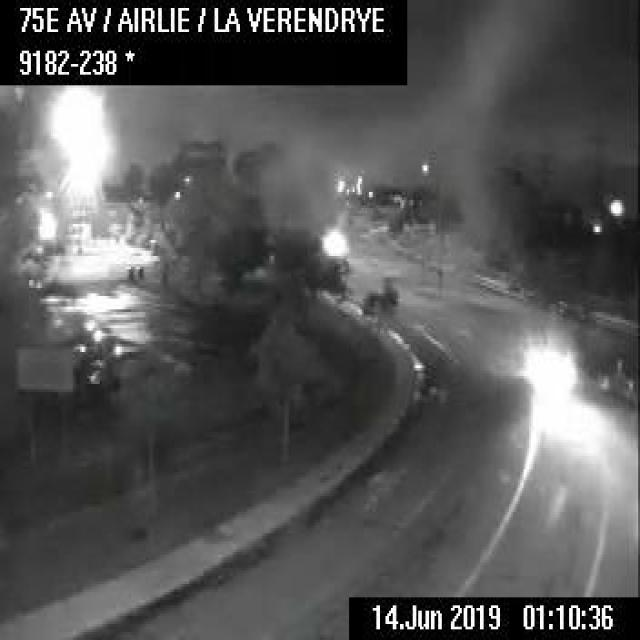vehicle: (504, 326, 576, 398)
